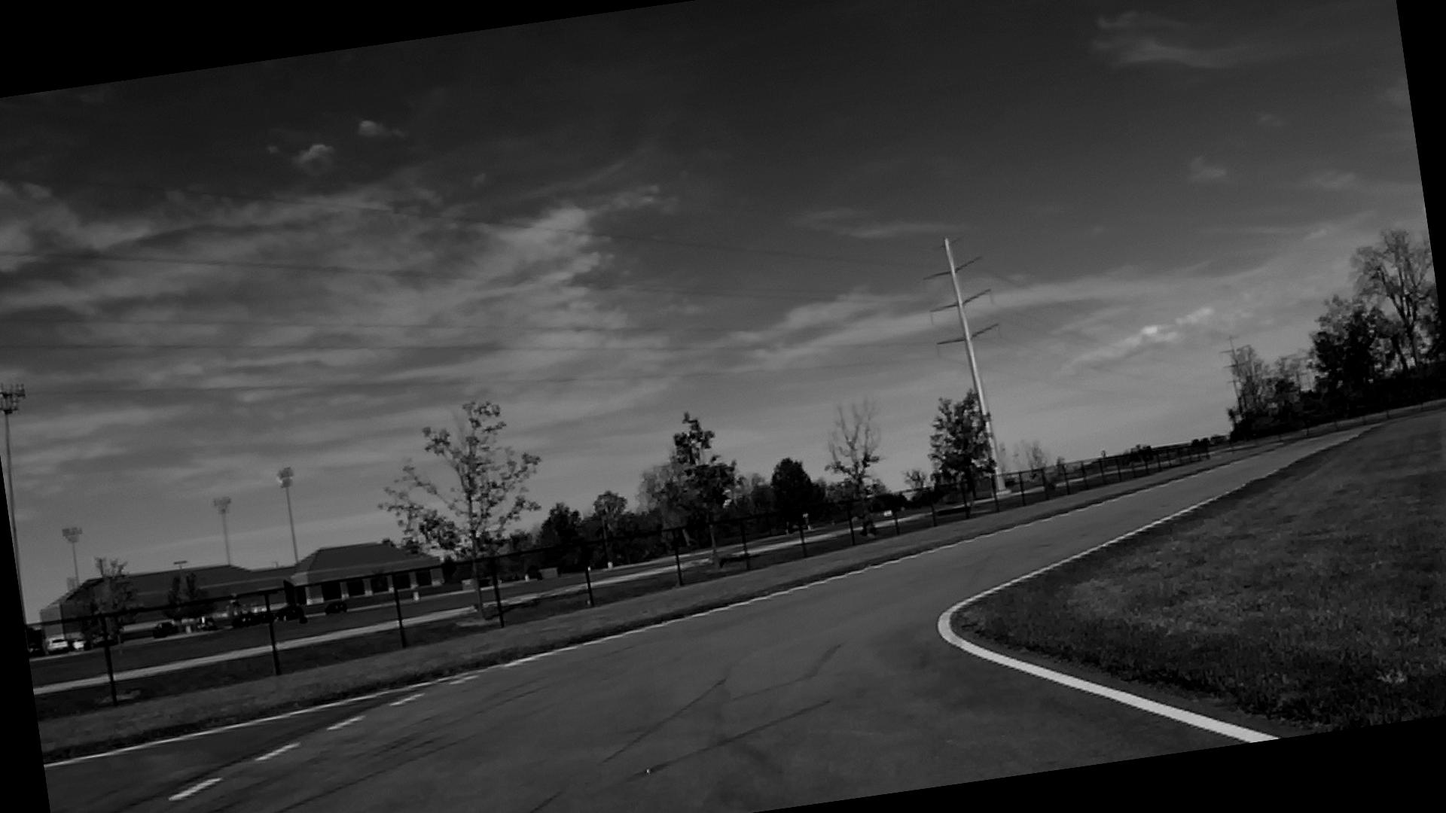white-line: (43, 560, 900, 769), (939, 493, 1288, 743), (169, 776, 223, 800), (257, 742, 299, 760), (328, 714, 363, 728), (390, 692, 425, 705)
